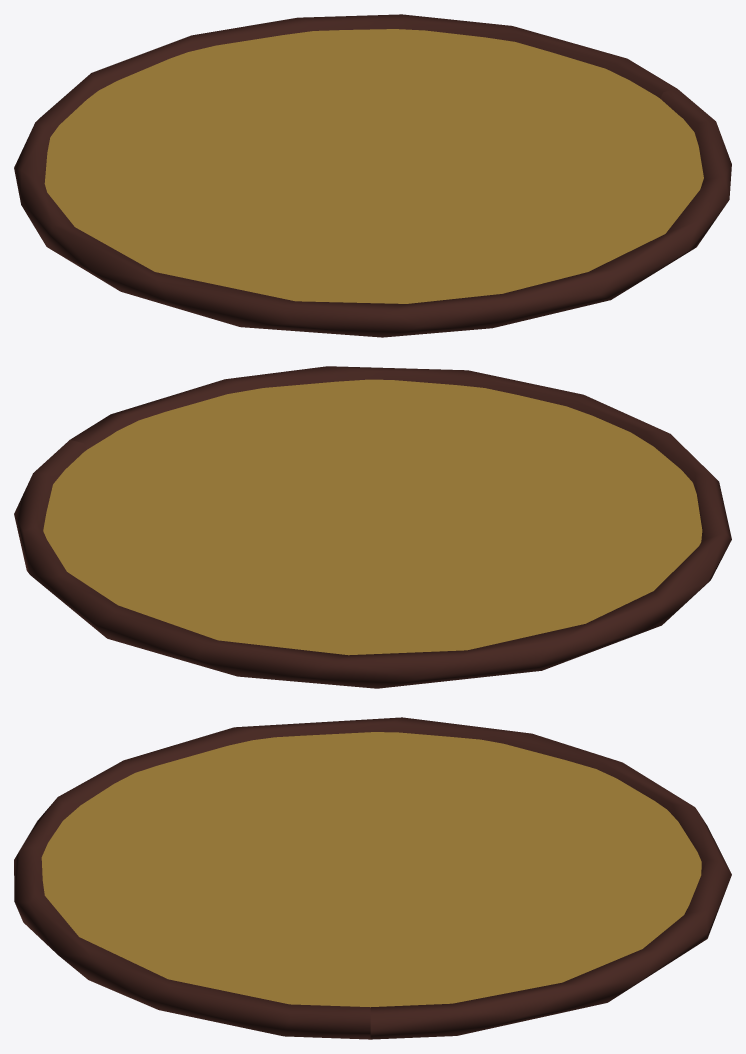
File: Coaster.fbx
3 views of the same model, one above another, from view 1: azimuth 30°, elevation 25°; view 2: azimuth 150°, elevation 25°; view 3: azimuth 270°, elevation 25° (orthographic).
Visible parts, largest first — view 1: Coaster 2; view 2: Coaster 2; view 3: Coaster 2.
Boxes of the visible parts, x1=… form: Coaster 2: x1=14, y1=14, x2=731, y2=337; Coaster 2: x1=14, y1=366, x2=731, y2=688; Coaster 2: x1=14, y1=717, x2=731, y2=1039.
Bounding box in the file's own units: 20.93 × 0.8349 × 21.04.
